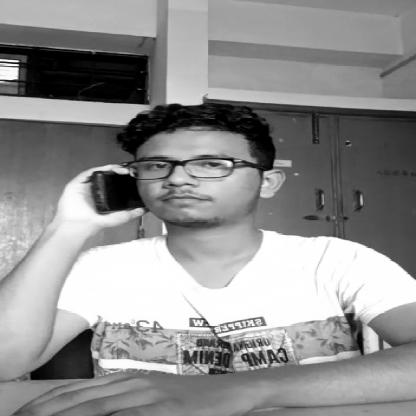Distracted: (120, 118, 278, 221)
